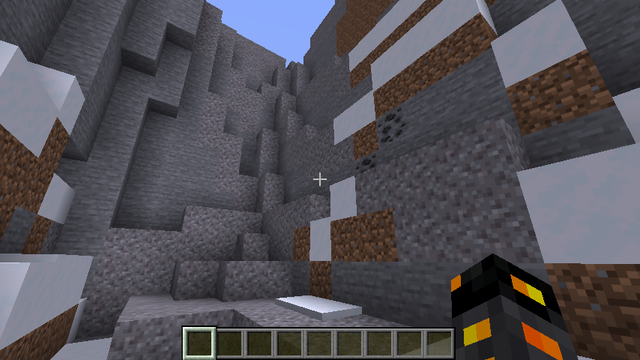coal: (353, 108, 410, 172)
